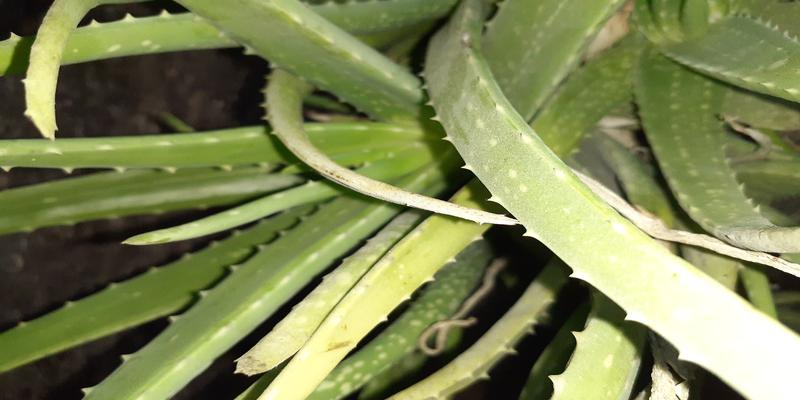Aloevera: (233, 10, 776, 352)
